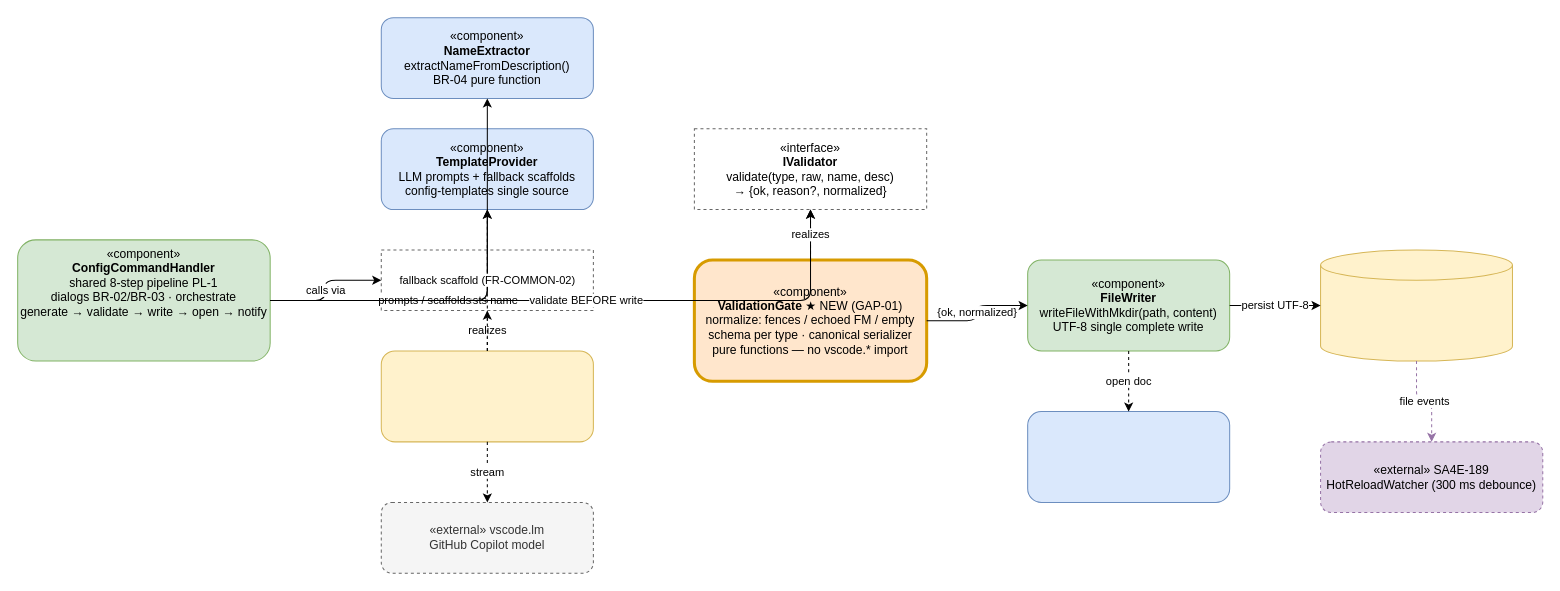
The diagram is 1560 pixels wide and 591 high, and some of its shapes have lost their labels. The box of each missing label's shape, as (x1, y1, x2, y2) in pixels:
Workspace FS .code-intel/{agents,hooks, steering,skills}: (1320, 249, 1512, 361)
«component» EditorService open generated file text editor fallback (BR-13): (1027, 411, 1230, 502)
«component» LLMServiceAdapter vscode.lm copilot streaming failure taxonomy F1-F4: (380, 350, 593, 442)
«interface» ILlmService generate(prompt, desc, type): (380, 249, 593, 311)
